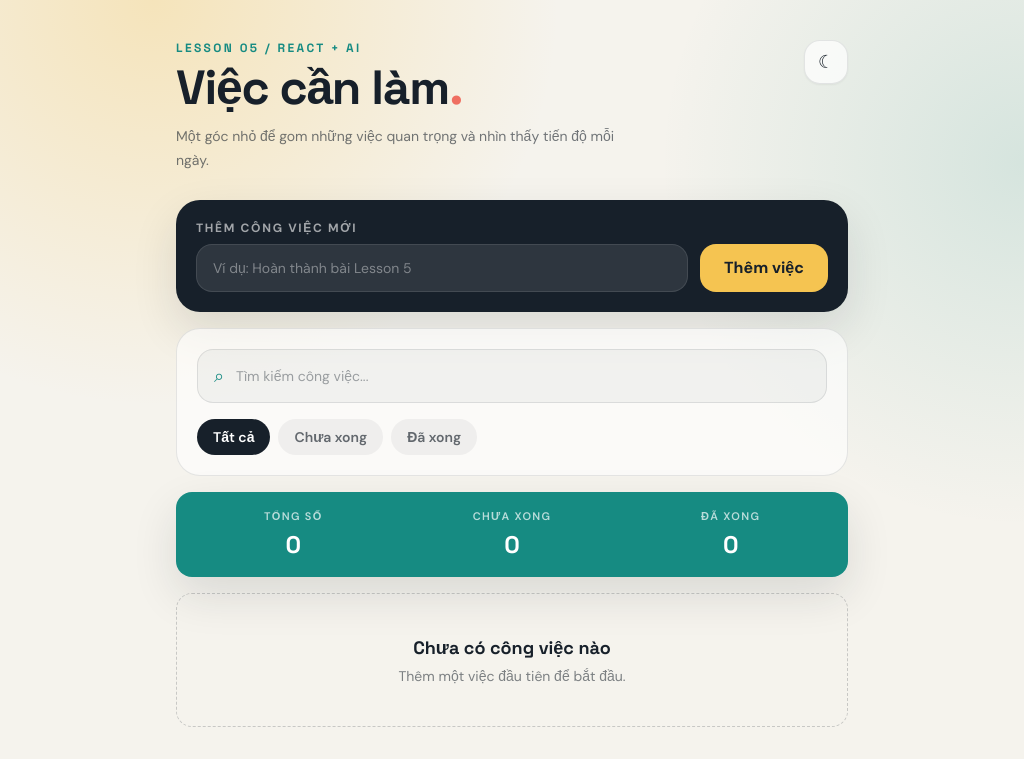
adds a todo and updates statistics
Type "Học React" into the field labelled "Thêm công việc mới" at [442, 268], box [196,244,688,292]
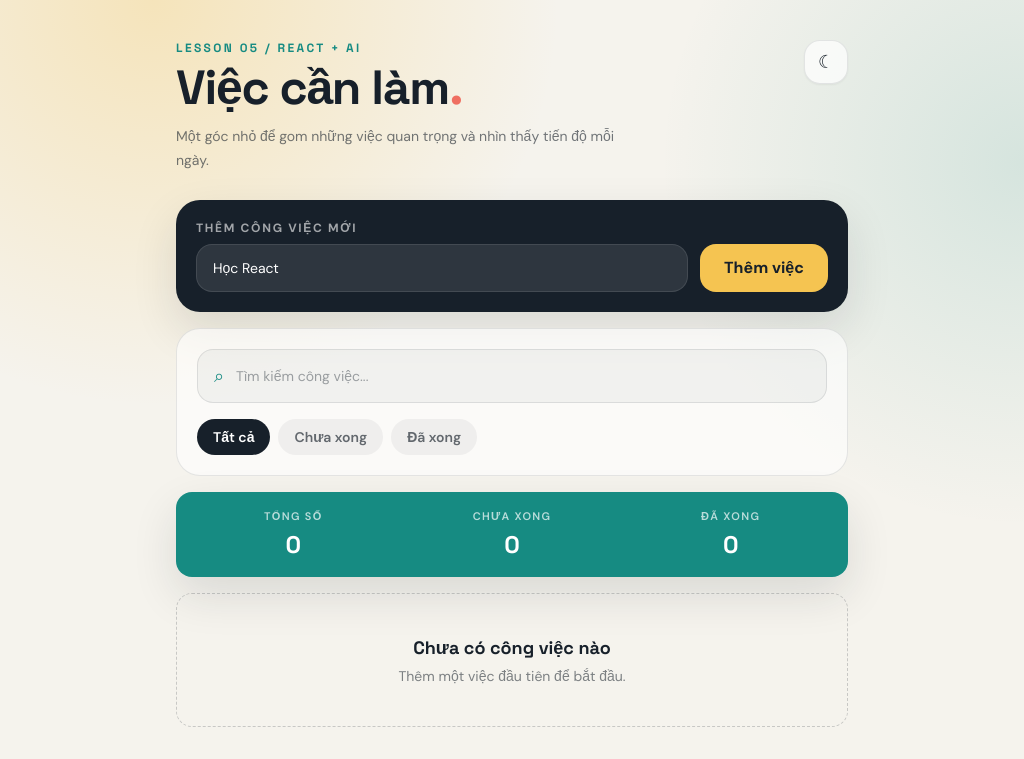
Click the button "Thêm việc" at [764, 268], box [700,244,828,292]
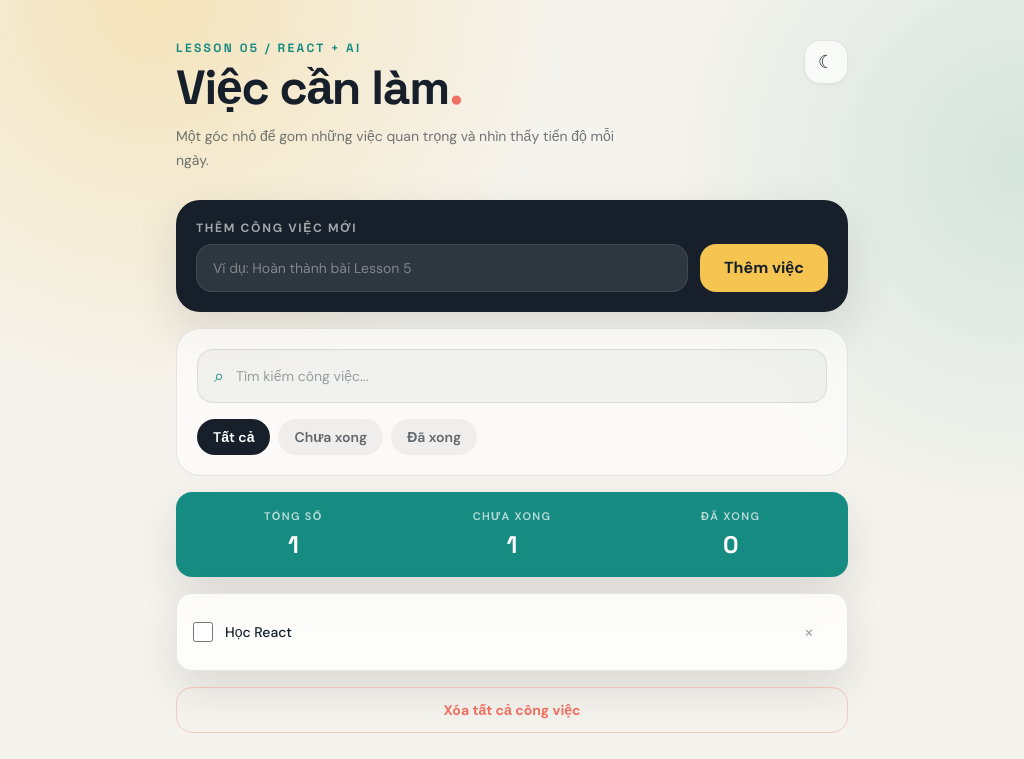
Check: the text "Học React" is shown, box [225,622,292,640]
Check: the 2nd text "1" is shown, box [507,528,518,560]
